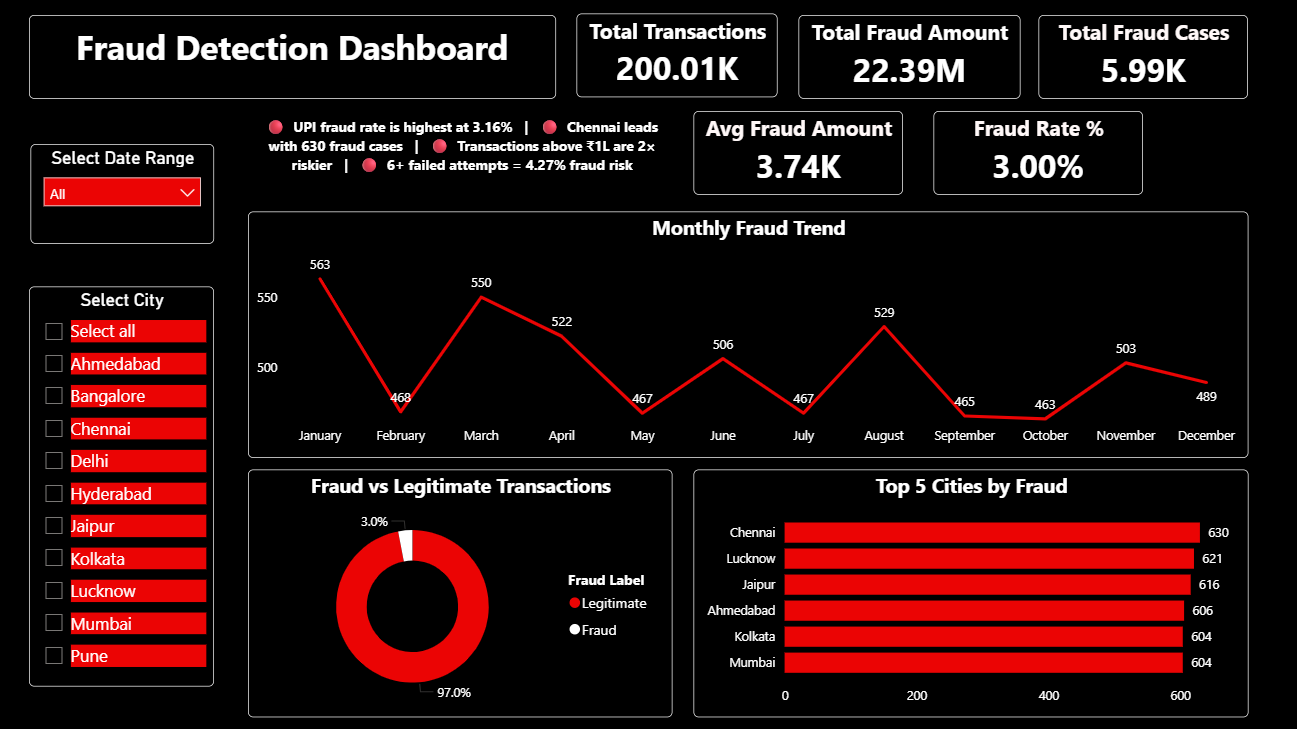

This screenshot's page, from the dashboard's own definition file:
{"tool":"powerbi","page":{"name":"Executive Summary","canvas":[1280,720],"ordinal":0},"visuals":[{"type":"card","title":"Total Transactions","fields":{"Values":["CountNonNull(cleaned_fraud_dataset.is_fraud)"]},"box":[560,16,192,80],"z":0},{"type":"card","title":"Total Fraud Cases","fields":{"Values":["Sum(cleaned_fraud_dataset.is_fraud)"]},"box":[1001.7,16.7,200,80],"z":1000},{"type":"card","title":"Fraud Rate %","fields":{"Values":["cleaned_fraud_dataset.Fraud Rate %"]},"box":[901.7,108.3,200,80],"z":2000},{"type":"card","title":"Total Fraud Amount ","fields":{"Values":["Sum(cleaned_fraud_dataset.amount)"]},"box":[771.7,16.7,211.7,80],"z":3000},{"type":"donutChart","title":"Fraud vs Legitimate Transactions","fields":{"Y":["CountNonNull(cleaned_fraud_dataset.is_fraud)"],"Category":["cleaned_fraud_dataset.Fraud Label"]},"box":[246.7,451.7,405,236.7],"z":4000},{"type":"lineChart","title":"Monthly Fraud Trend","fields":{"Y":["Sum(cleaned_fraud_dataset.is_fraud)"],"Category":["cleaned_fraud_dataset.transaction_date.Variation.Date Hierarchy.Month"]},"box":[246.7,205,955,235],"z":5000},{"type":"barChart","title":"Top 5 Cities by Fraud","fields":{"Category":["cleaned_fraud_dataset.city"],"Y":["Sum(cleaned_fraud_dataset.is_fraud)"]},"box":[671.7,451.7,530,236.7],"z":6000},{"type":"slicer","title":"Select Date Range","fields":{"Values":["cleaned_fraud_dataset.transaction_date.Variation.Date Hierarchy.Year","cleaned_fraud_dataset.transaction_date.Variation.Date Hierarchy.Quarter","cleaned_fraud_dataset.transaction_date.Variation.Date Hierarchy.Month"]},"box":[38.3,140,175,95],"z":7000},{"type":"slicer","title":"Select City","fields":{"Values":["cleaned_fraud_dataset.city"]},"box":[36.7,276.7,176.7,381.7],"z":8000},{"type":"textbox","box":[36.7,16.7,503.3,80],"z":9000},{"type":"card","title":"Avg Fraud Amount","fields":{"Values":["cleaned_fraud_dataset.Avg Fraud Amount"]},"box":[671.7,108.3,200,80],"z":10000},{"type":"textbox","box":[246.5,108.2,408.8,79.5],"z":10001}]}

Visuals, with their boxes in screenshot pixels (x1, y1, x2, y2), scaled from the page's 1280x720 canvas onto the 1297x729 screenshot:
"Total Transactions" card: (567,16,762,97)
"Total Fraud Cases" card: (1015,17,1218,98)
"Fraud Rate %" card: (914,110,1116,191)
"Total Fraud Amount " card: (782,17,996,98)
"Fraud vs Legitimate Transactions" donutChart: (250,457,660,697)
"Monthly Fraud Trend" lineChart: (250,208,1218,446)
"Top 5 Cities by Fraud" barChart: (681,457,1218,697)
"Select Date Range" slicer: (39,142,216,238)
"Select City" slicer: (37,280,216,667)
textbox: (37,17,547,98)
"Avg Fraud Amount" card: (681,110,883,191)
textbox: (250,110,664,190)
